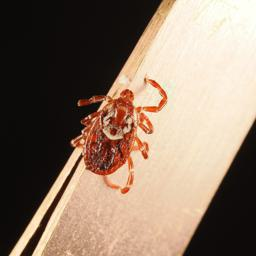Dermacentor variabilis: (70, 75, 167, 193)
